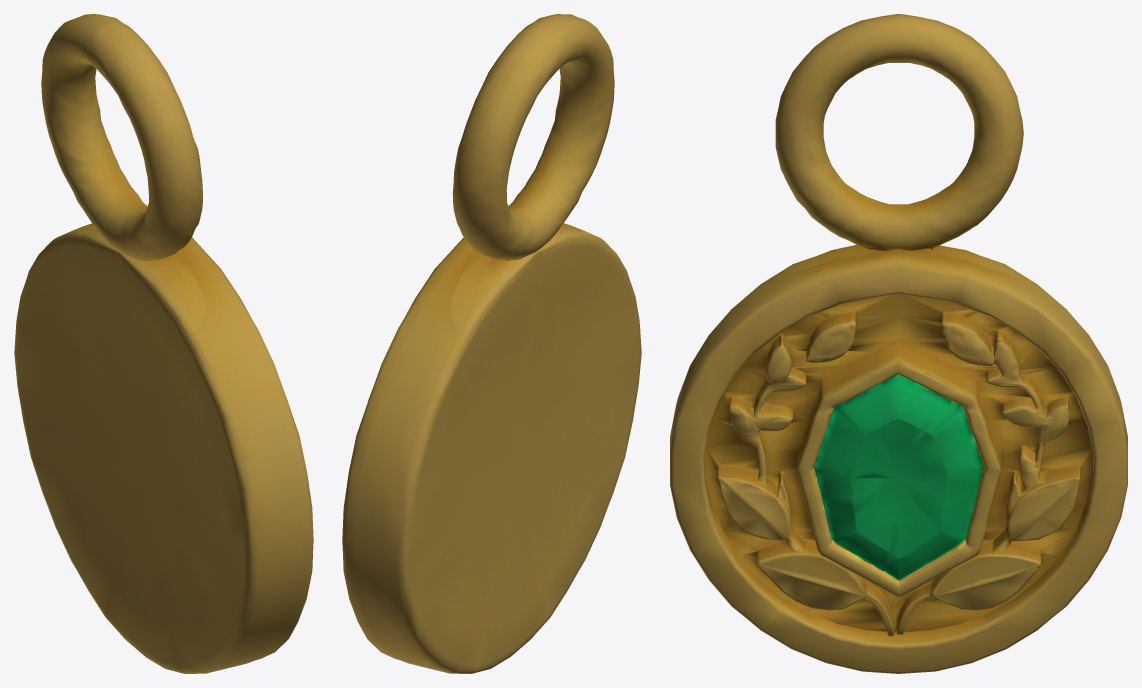
The model's file is tripo_convert_fe664321-74e8-4662-b99f-127bad69b3b0.fbx.
3 renders of one model, left to right at view 1: azimuth 30°, elevation 25°; view 2: azimuth 150°, elevation 25°; view 3: azimuth 270°, elevation 25°, orthographic. The views are drawn at different scales.
Visible parts, largest first — view 1: tripo_node_fe664321; view 2: tripo_node_fe664321; view 3: tripo_node_fe664321.
Part boxes in pixels (left/top/right/bottom): tripo_node_fe664321: left=14, top=14, right=313, bottom=673; tripo_node_fe664321: left=342, top=14, right=641, bottom=673; tripo_node_fe664321: left=670, top=14, right=1127, bottom=673.
Size of the model in its own units: 0.2251 by 0.9961 by 0.6712.
1 material, 1 textured.
